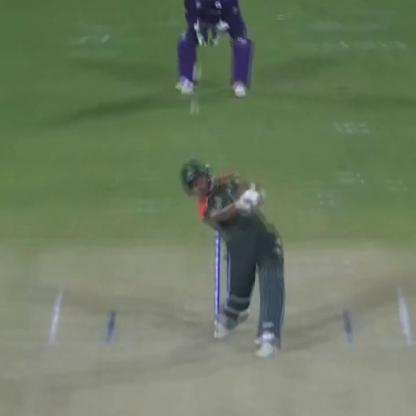ball: (180, 97, 207, 116), (188, 64, 206, 85)
bat: (235, 183, 284, 243)
pitch: (10, 278, 416, 416)
